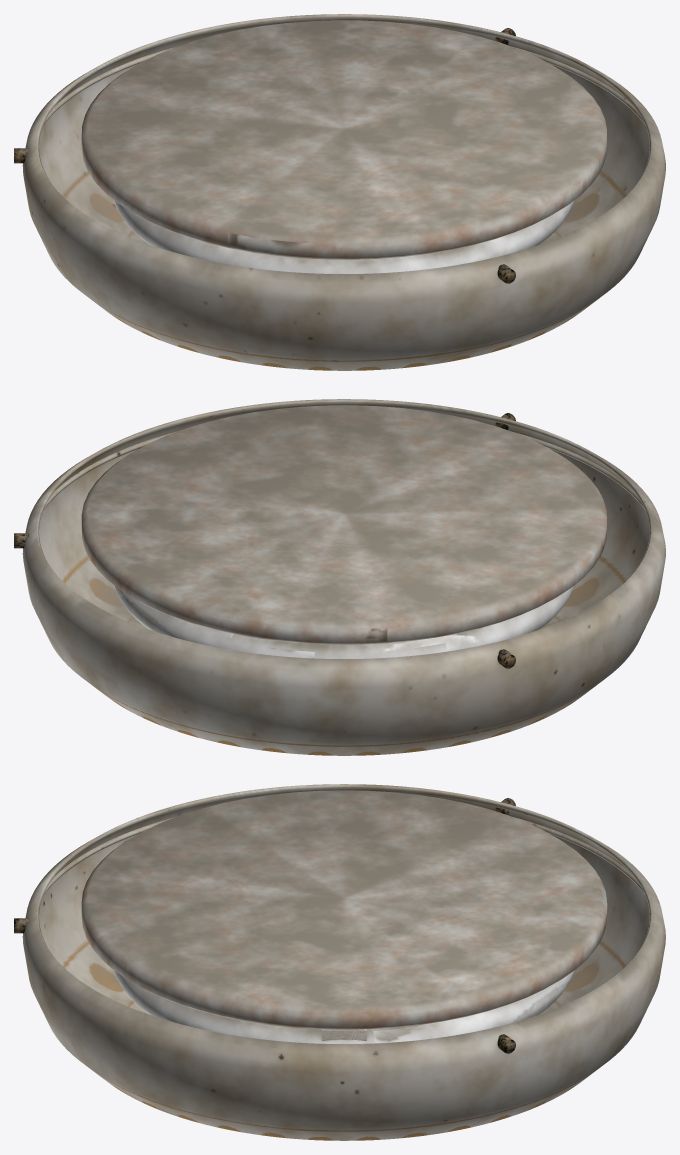
File: CeilingLight_Round.gltf
3 renders of one model, top to bottom at view 1: azimuth 30°, elevation 25°; view 2: azimuth 150°, elevation 25°; view 3: azimuth 270°, elevation 25°, orthographic.
Parts seen in each view (by area): view 1: Round_Base, Round_Shade, RL_Tube_40, Shade_Rim_Rib; view 2: Round_Base, Round_Shade, RL_Tube_40, Shade_Rim_Rib; view 3: Round_Base, Round_Shade, RL_Tube_40, Shade_Rim_Rib.
Part boxes in pixels (x1,y1,x2,y2): Round_Base: (81, 20, 606, 259); Round_Shade: (22, 14, 665, 370); RL_Tube_40: (114, 200, 574, 273); Shade_Rim_Rib: (43, 47, 644, 125); Round_Base: (81, 405, 606, 644); Round_Shade: (22, 399, 665, 755); RL_Tube_40: (114, 585, 574, 658); Shade_Rim_Rib: (43, 431, 645, 510); Round_Base: (81, 790, 607, 1029); Round_Shade: (22, 784, 665, 1140); RL_Tube_40: (114, 970, 574, 1043); Shade_Rim_Rib: (43, 817, 644, 894).
Bounding box in the file's own units: 0.514 × 0.156 × 0.521.
Materials: 8 (8 with a texture image).
